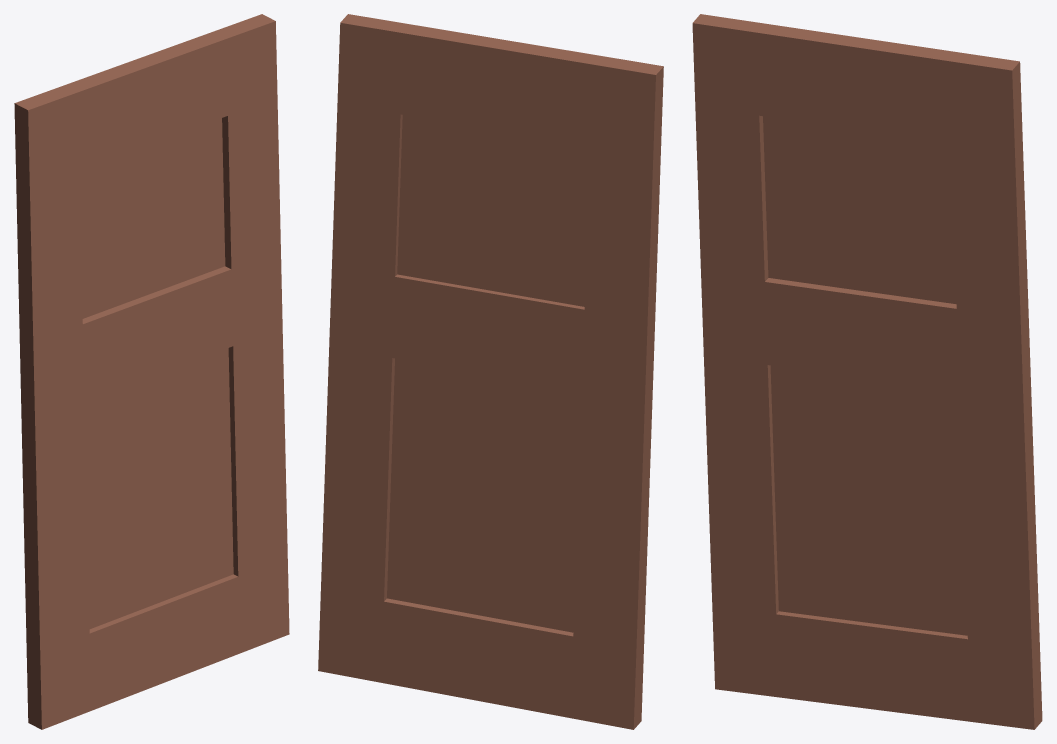
Rendered from Building_Door_B.fbx.
The picture shows the model from 3 angles, left to right: view 1: azimuth 30°, elevation 25°; view 2: azimuth 150°, elevation 25°; view 3: azimuth 330°, elevation 25°; orthographic projection. The views are drawn at different scales.
Visible parts, largest first — view 1: Building Door B; view 2: Building Door B; view 3: Building Door B.
Part boxes in pixels (x1,y1,x2,y2): Building Door B: (14, 14, 289, 729); Building Door B: (318, 14, 663, 729); Building Door B: (692, 14, 1042, 729).
Size of the model in its own units: 524 by 1068 by 127.
